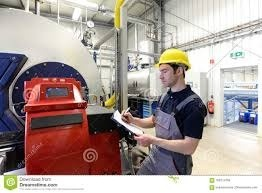helmet: (154, 48, 196, 69)
person with partial safety: (147, 49, 209, 160)
